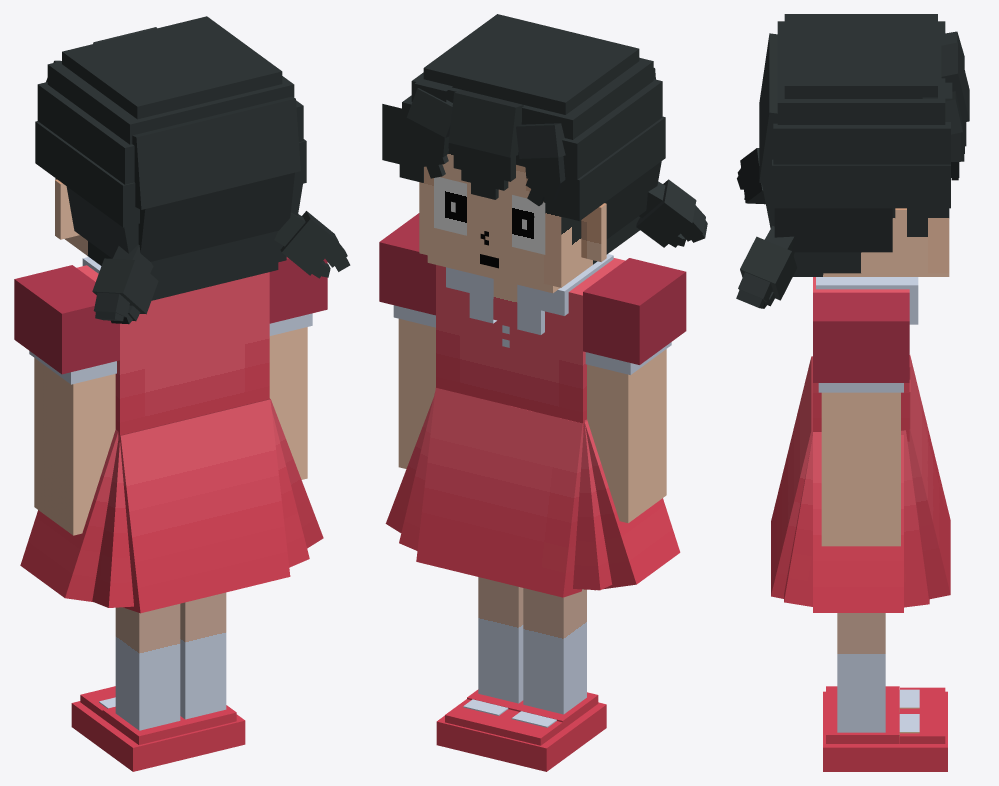
3 views of the same model, side by side, from view 1: azimuth 30°, elevation 25°; view 2: azimuth 150°, elevation 25°; view 3: azimuth 270°, elevation 25° (orthographic). The views are drawn at different scales.
Parts seen in each view (by area): view 1: head (×7), body, bone77, bone82, bone19, leftArm, leftSleeve (×2), bone29, leftLeg, bone81, rightLeg, xiezi3 (×2) (+12 smaller); view 2: head (×10), body, bone76, bone78, leftArm, leftSleeve (×2), leftLeg, bone81, rightLeg, rightArm, xiezi3 (×2), rightSleeve (+16 smaller); view 3: head (×7), rightArm, rightSleeve (×2), bone75, rightLeg, xiezi4 (×2), bone59, bone78, bone82, bone16, bone72, bone19 (+13 smaller).
Part boxes in pixels (x1,y1,x2,y2): head (×7): [35, 16, 294, 300]; body: [76, 265, 269, 435]; bone77: [118, 417, 215, 613]; bone82: [195, 399, 290, 594]; bone19: [132, 96, 300, 209]; leftArm: [34, 358, 115, 535]; leftSleeve (×2): [14, 265, 119, 384]; bone29: [138, 172, 294, 261]; leftLeg: [115, 604, 180, 730]; bone81: [20, 430, 118, 601]; rightLeg: [180, 592, 226, 719]; xiezi3 (×2): [71, 701, 193, 771]; head (×10): [382, 14, 665, 293]; body: [436, 258, 624, 434]; bone76: [489, 405, 583, 597]; bone78: [416, 388, 508, 579]; leftArm: [587, 349, 666, 523]; leftSleeve (×2): [583, 258, 686, 374]; leftLeg: [523, 588, 586, 714]; bone81: [585, 420, 680, 590]; rightLeg: [478, 577, 523, 703]; rightArm: [398, 318, 435, 468]; xiezi3 (×2): [487, 692, 606, 771]; rightSleeve: [379, 213, 435, 315]; head (×7): [772, 14, 950, 276]; rightArm: [821, 392, 900, 546]; rightSleeve (×2): [813, 292, 909, 392]; bone75: [813, 431, 903, 612]; rightLeg: [837, 613, 885, 732]; xiezi4 (×2): [823, 712, 947, 771]; bone59: [774, 208, 892, 252]; bone78: [907, 392, 950, 598]; bone82: [771, 393, 812, 598]; bone16: [784, 436, 812, 606]; bone72: [901, 430, 929, 607]; bone19: [759, 33, 777, 184].
Bounding box in the file's own units: 0.6875 × 1.69 × 0.5477.
Materials: 1 (1 with a texture image).
